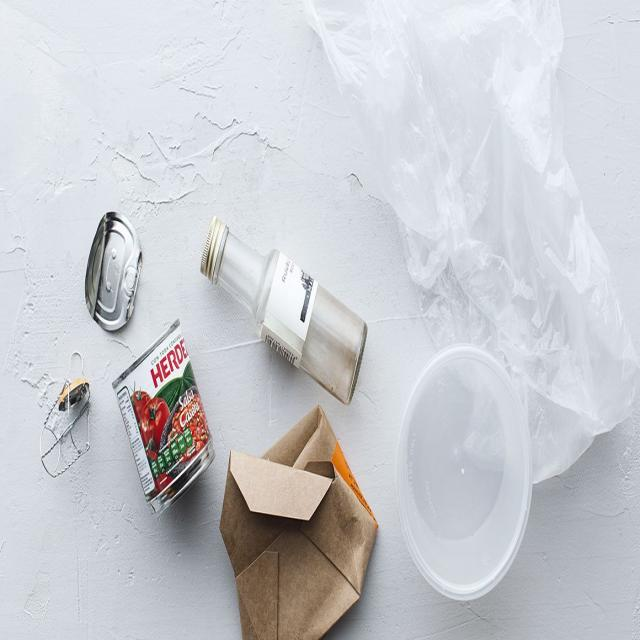metal: (110, 313, 216, 521), (83, 210, 147, 338), (39, 348, 92, 482)
paper: (218, 403, 381, 639)
plastic: (394, 344, 533, 604)
